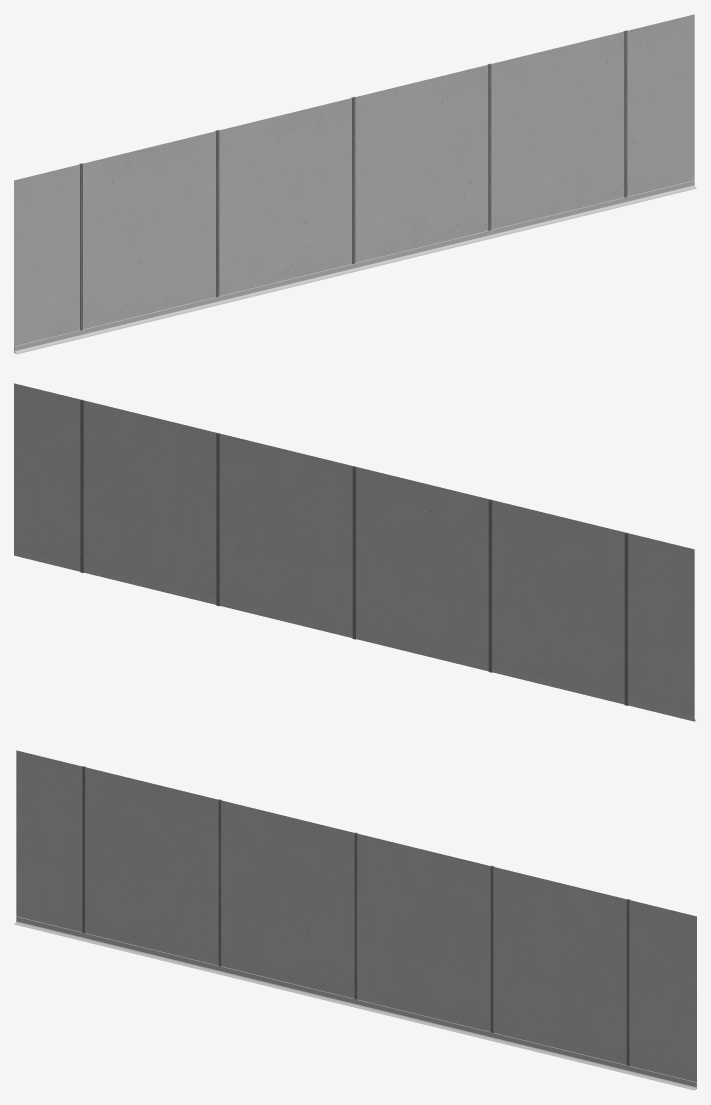
Rendered from IV_drip1.fbx.
3 views of the same model, one above another, from view 1: azimuth 30°, elevation 25°; view 2: azimuth 150°, elevation 25°; view 3: azimuth 330°, elevation 25° (orthographic).
Visible parts, largest first — view 1: KB3D_ECE_BldgIntPatientRoom_A_Wall.001; view 2: KB3D_ECE_BldgIntPatientRoom_A_Wall.001; view 3: KB3D_ECE_BldgIntPatientRoom_A_Wall.001.
Part boxes in pixels (box(x1,y1,x2,y2)): KB3D_ECE_BldgIntPatientRoom_A_Wall.001: box(14, 14, 696, 354); KB3D_ECE_BldgIntPatientRoom_A_Wall.001: box(14, 383, 696, 721); KB3D_ECE_BldgIntPatientRoom_A_Wall.001: box(14, 750, 696, 1090).
Size of the model in its own units: 1240 by 300 by 9.71.
